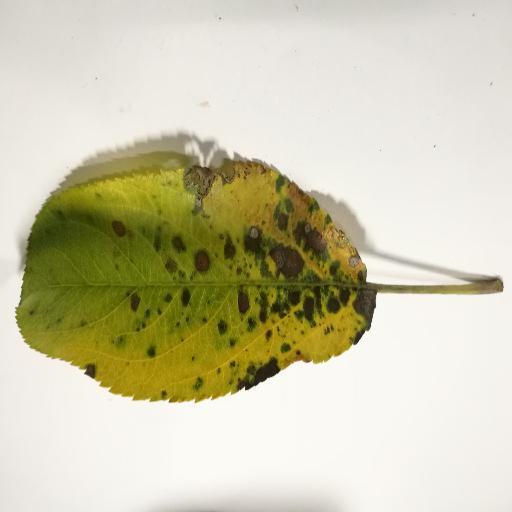Brown_Spot: (225, 288, 372, 378), (235, 212, 363, 282), (171, 153, 262, 202), (167, 231, 220, 301), (109, 283, 153, 315), (103, 219, 136, 243)
